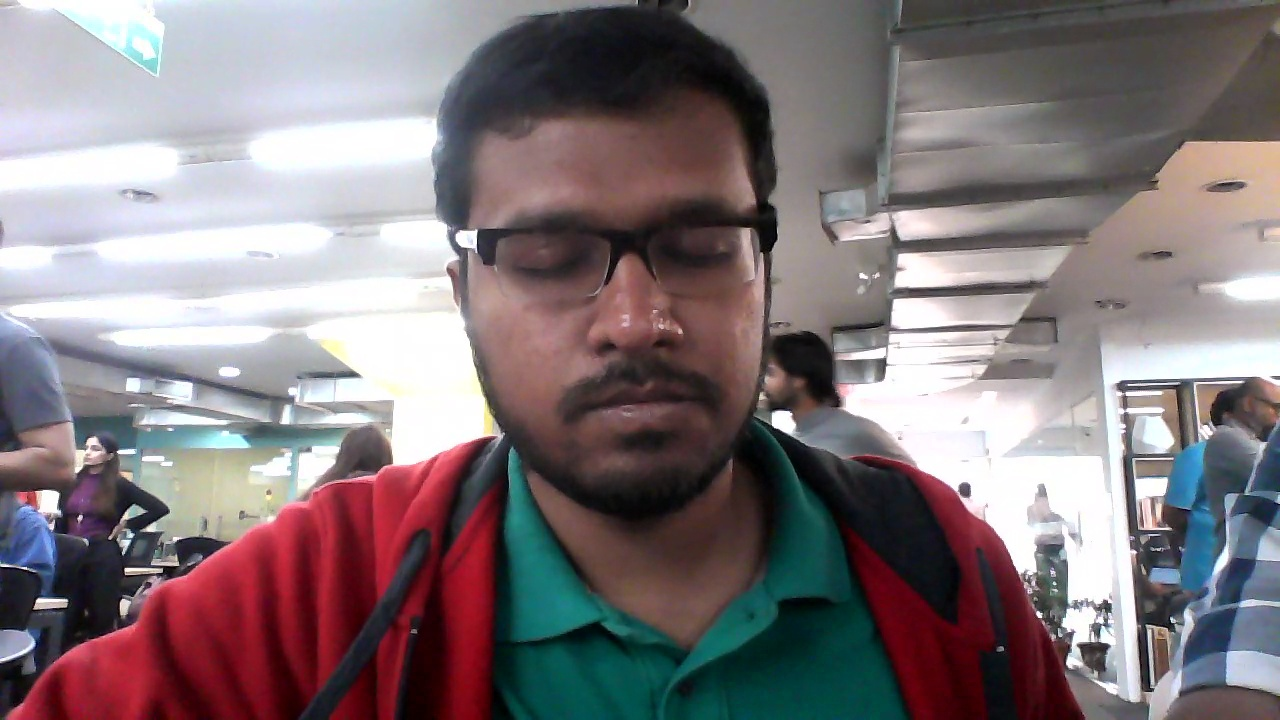closed: (434, 16, 788, 518)
